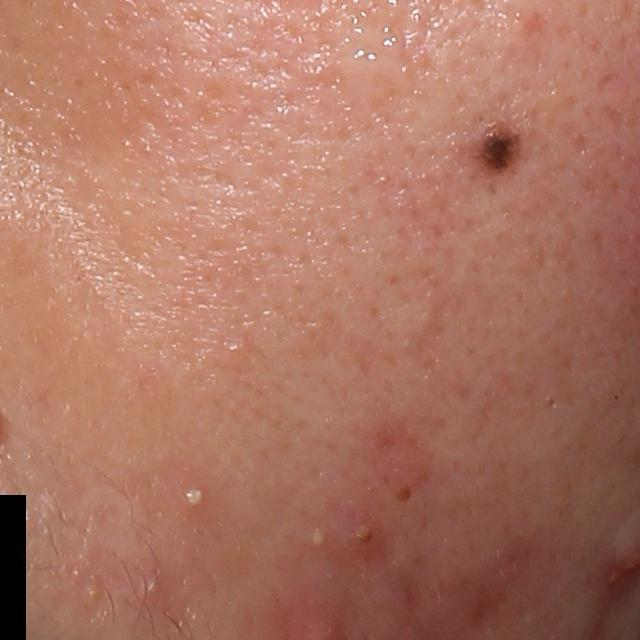comedo: (390, 482, 419, 508), (225, 339, 248, 357), (86, 583, 103, 601)
nevus: (474, 121, 523, 177)
pustule: (179, 483, 213, 518), (138, 568, 170, 602)
